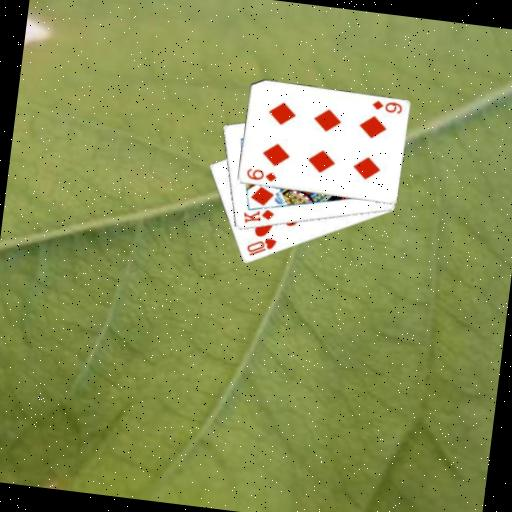10H: (242, 233, 278, 261)
6D: (243, 165, 279, 184), (368, 97, 404, 116)
KD: (240, 204, 277, 229)
